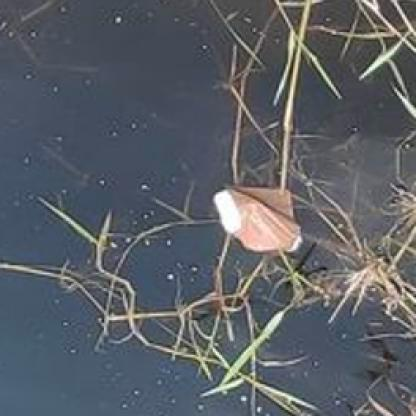Trash: (213, 186, 301, 254)
